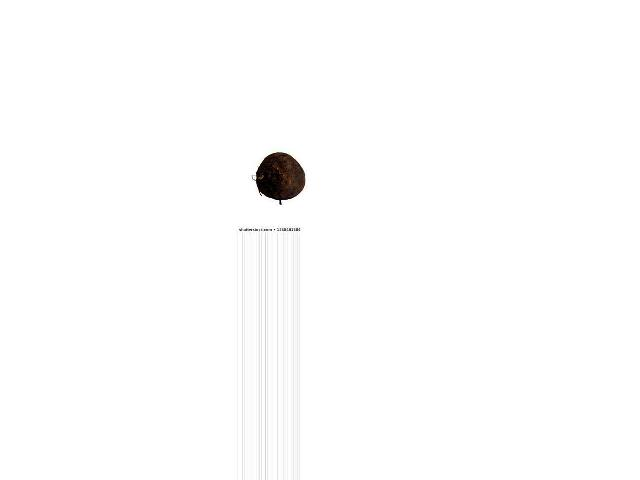beet: (257, 153, 306, 199)
